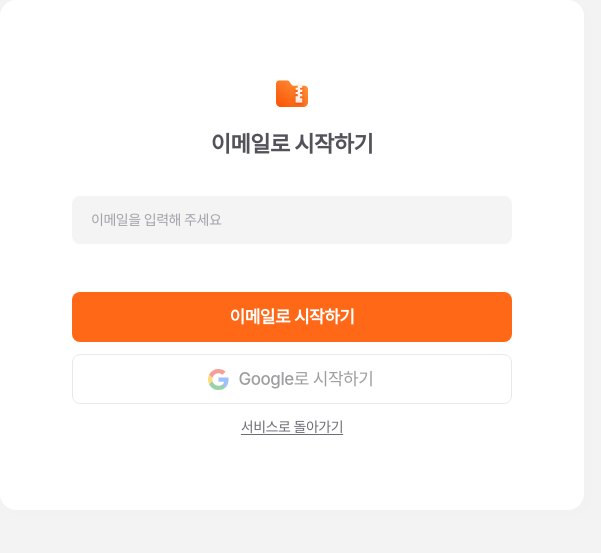
it: AuthEntryPage › shows the email format error using the designed helper text
The width and height of the screenshot is (601, 553).
Type "invalid-email" into the field labelled "이메일".
click(292, 220); type("invalid-email")  # box [91,209,493,231]
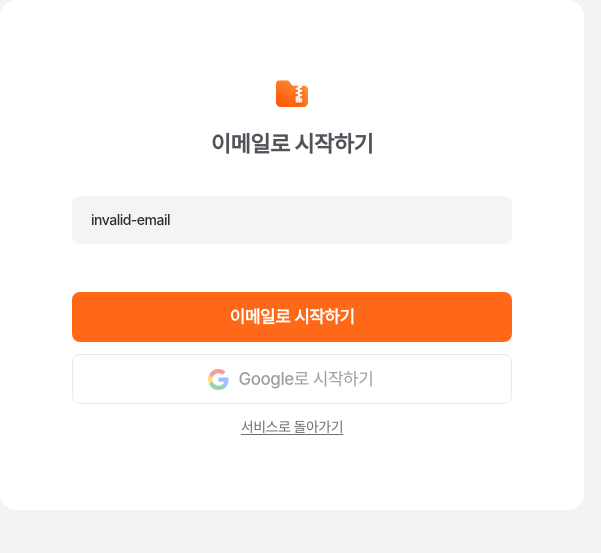
Click the button "이메일로 시작하기".
click(292, 317)  # box [72,292,512,342]
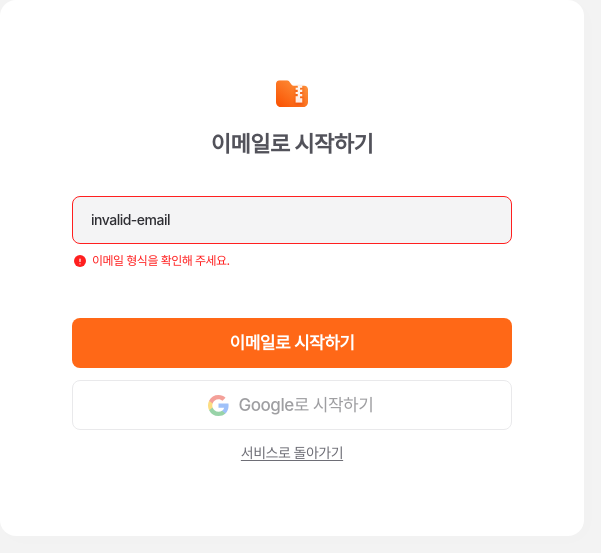
Result: the message reads "이메일 형식을 확인해 주세요." at [92,253,230,268]
